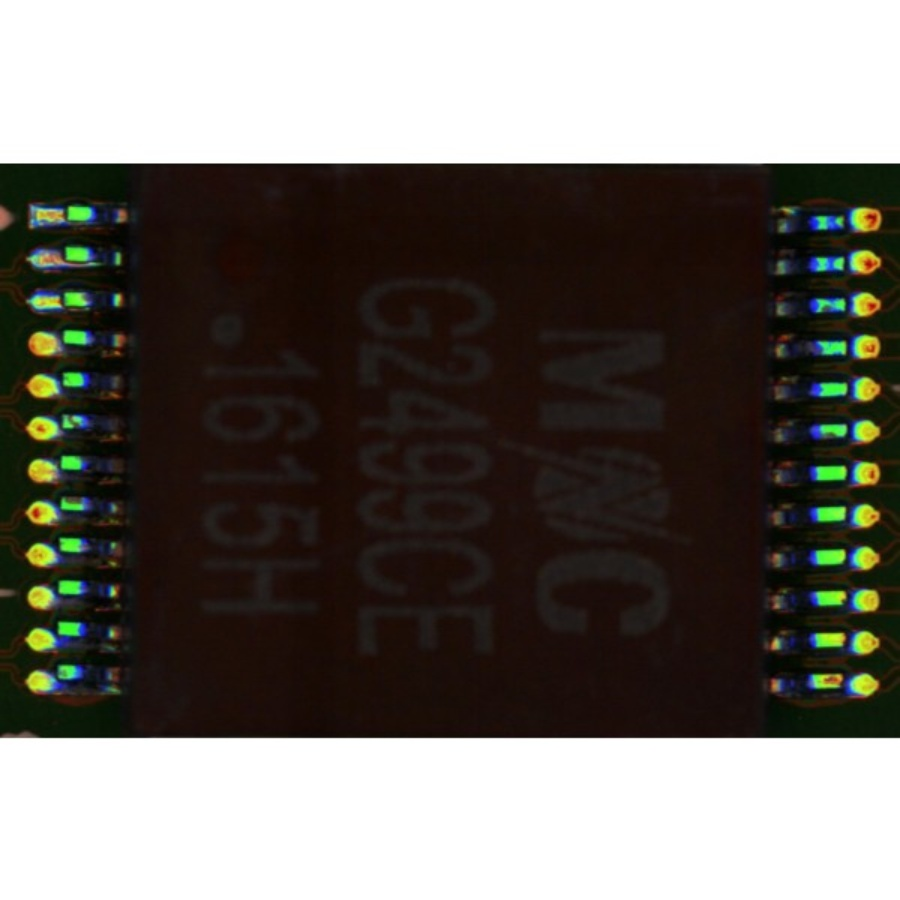Bad_podu: (53, 209, 76, 220), (50, 295, 72, 306)
Bad_qiaojiao: (63, 261, 102, 268)
